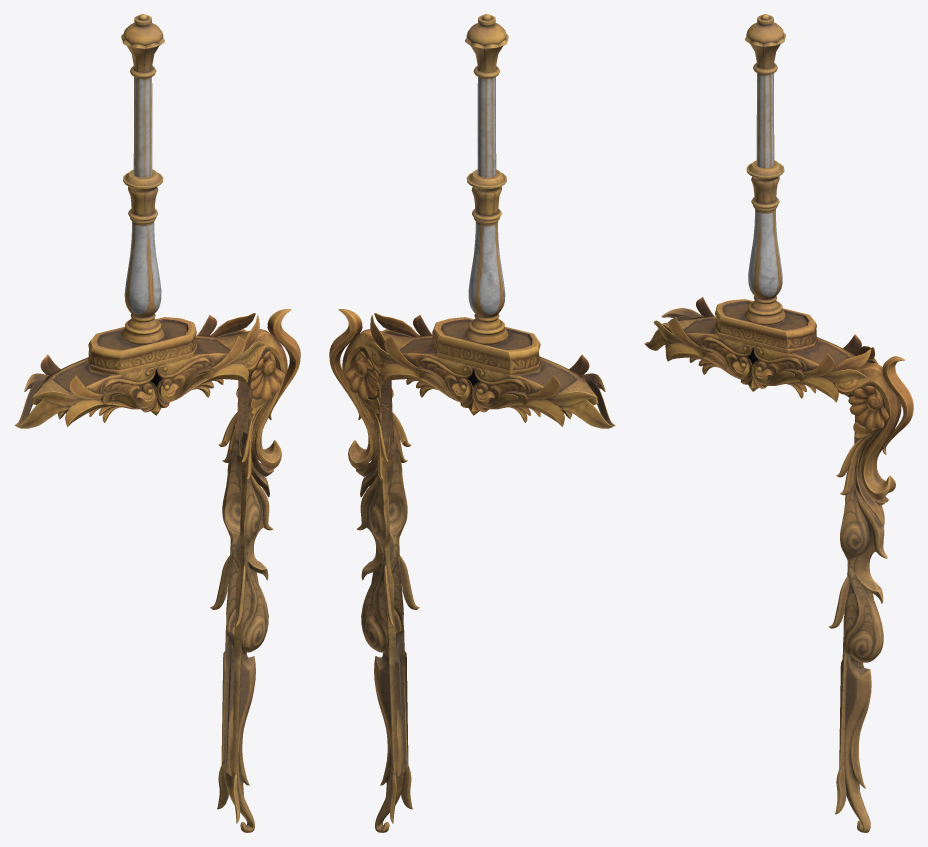
The model's file is metal.obj.
3 views of the same model, side by side, from view 1: azimuth 30°, elevation 25°; view 2: azimuth 150°, elevation 25°; view 3: azimuth 330°, elevation 25° (orthographic). The views are drawn at different scales.
Visible parts, largest first — view 1: Shatterseal_Metal; view 2: Shatterseal_Metal; view 3: Shatterseal_Metal.
Part boxes in pixels (<box>): Shatterseal_Metal: <box>14,14,300,832</box>; Shatterseal_Metal: <box>329,14,615,832</box>; Shatterseal_Metal: <box>644,14,913,832</box>.
Bounding box in the file's own units: 0.698 × 1.97 × 0.1525.
Materials: 1 (1 with a texture image).
